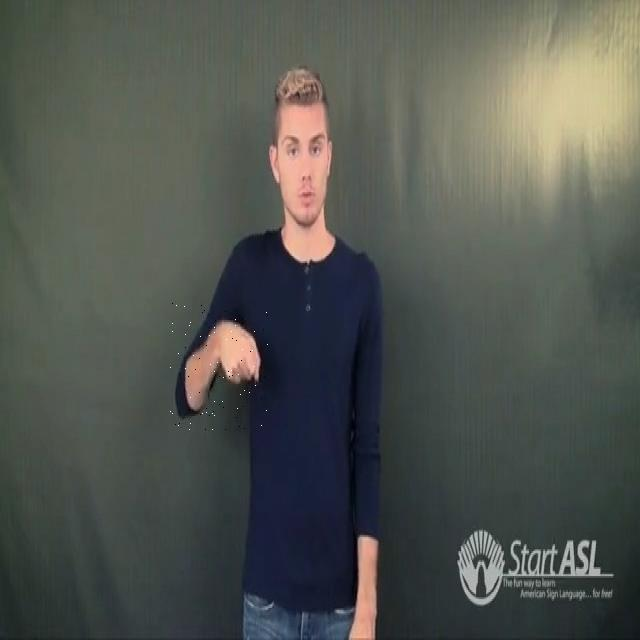bag: (170, 303, 268, 432)
